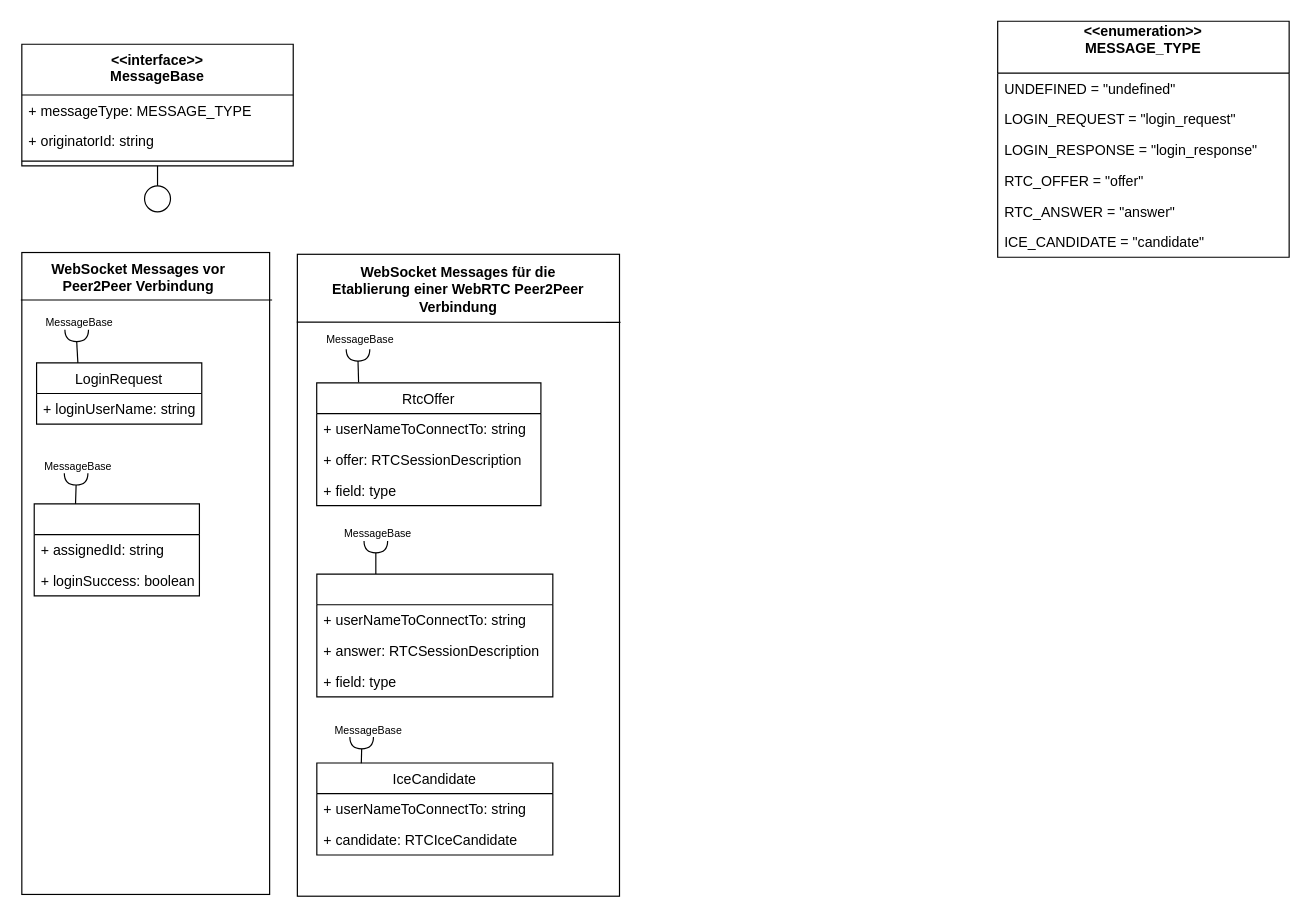
This 1310x917 diagram has some shape labels left out. The shapes that lost their labels are listed below. From the top down, each one's box as (x1, y1, x2, y2) in pixels, then its label:
(33, 503, 199, 596): LoginResponse
(316, 573, 553, 697): RtcAnswer
